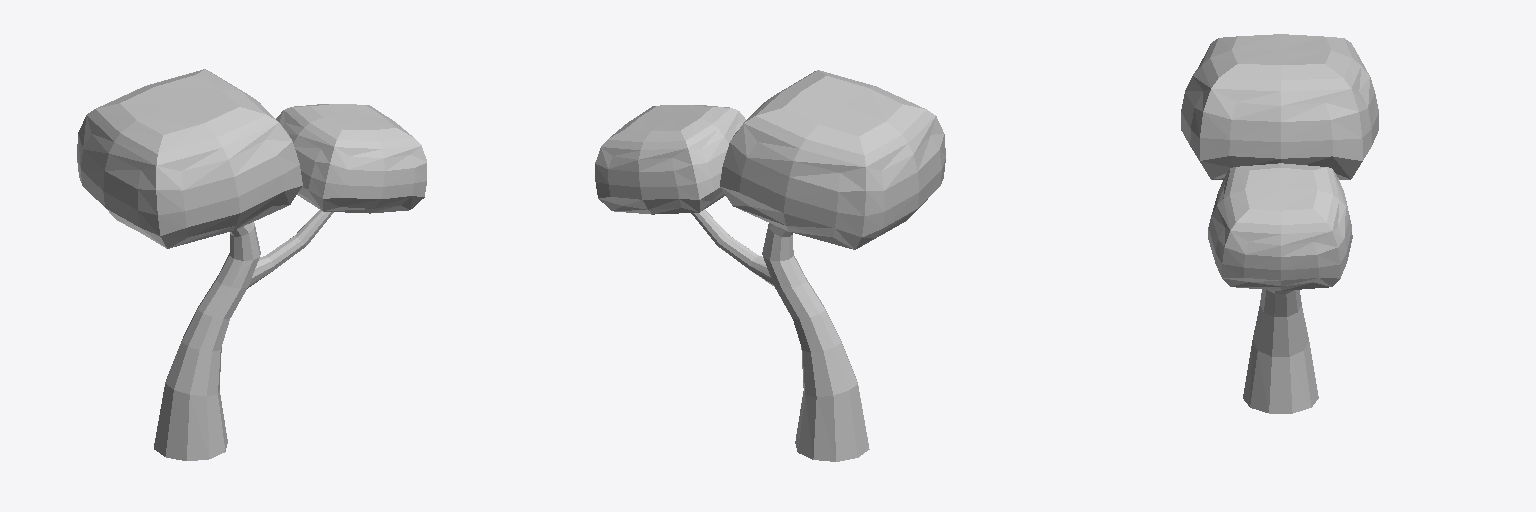
The model's file is UnaTree1.obj.
The picture shows the model from 3 angles: view 1: azimuth 30°, elevation 25°; view 2: azimuth 150°, elevation 25°; view 3: azimuth 270°, elevation 25°; orthographic projection.
Parts seen in each view (by area): view 1: Cube_Cube.001; view 2: Cube_Cube.001; view 3: Cube_Cube.001.
Boxes of the visible parts, x1=… form: Cube_Cube.001: x1=77, y1=69, x2=426, y2=460; Cube_Cube.001: x1=595, y1=70, x2=945, y2=461; Cube_Cube.001: x1=1181, y1=34, x2=1378, y2=413.
Bounding box in the file's own units: 13.6 × 14.87 × 7.7.